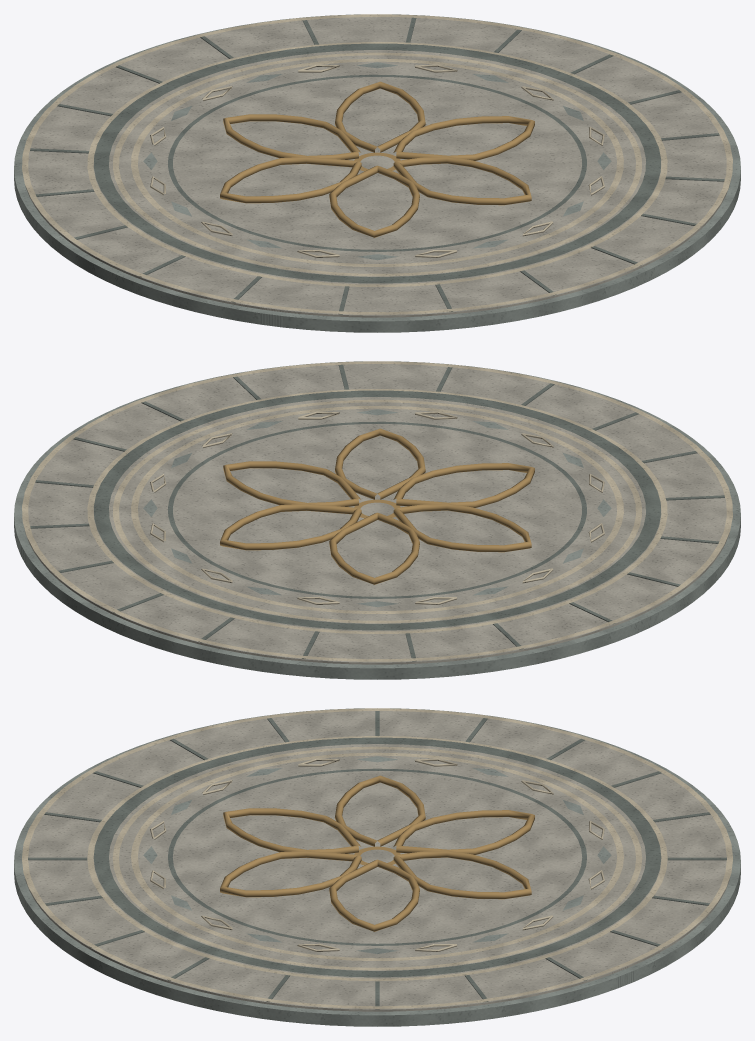
3 renders of one model, top to bottom at view 1: azimuth 30°, elevation 25°; view 2: azimuth 150°, elevation 25°; view 3: azimuth 270°, elevation 25°, orthographic.
Visible parts, largest first — view 1: C18_stone, C18_relief, C18_joint, C18_cool, C18_motif; view 2: C18_stone, C18_relief, C18_joint, C18_cool, C18_motif; view 3: C18_stone, C18_relief, C18_joint, C18_cool, C18_motif.
Boxes of the visible parts, box(x1,y1,x2,y2) form: C18_stone: box(25, 17, 730, 317); C18_relief: box(22, 14, 732, 314); C18_joint: box(30, 17, 724, 314); C18_cool: box(14, 14, 740, 332); C18_motif: box(220, 81, 534, 237); C18_stone: box(24, 364, 729, 664); C18_relief: box(22, 361, 732, 661); C18_joint: box(30, 364, 724, 661); C18_cool: box(14, 361, 740, 679); C18_motif: box(220, 428, 534, 584); C18_stone: box(25, 711, 729, 1011); C18_relief: box(22, 708, 732, 1008); C18_joint: box(28, 711, 726, 1009); C18_cool: box(14, 708, 740, 1026); C18_motif: box(220, 775, 534, 931).
Size of the model in its own units: 4.9 by 0.171 by 4.9.
Materials: 5 (4 with a texture image).
